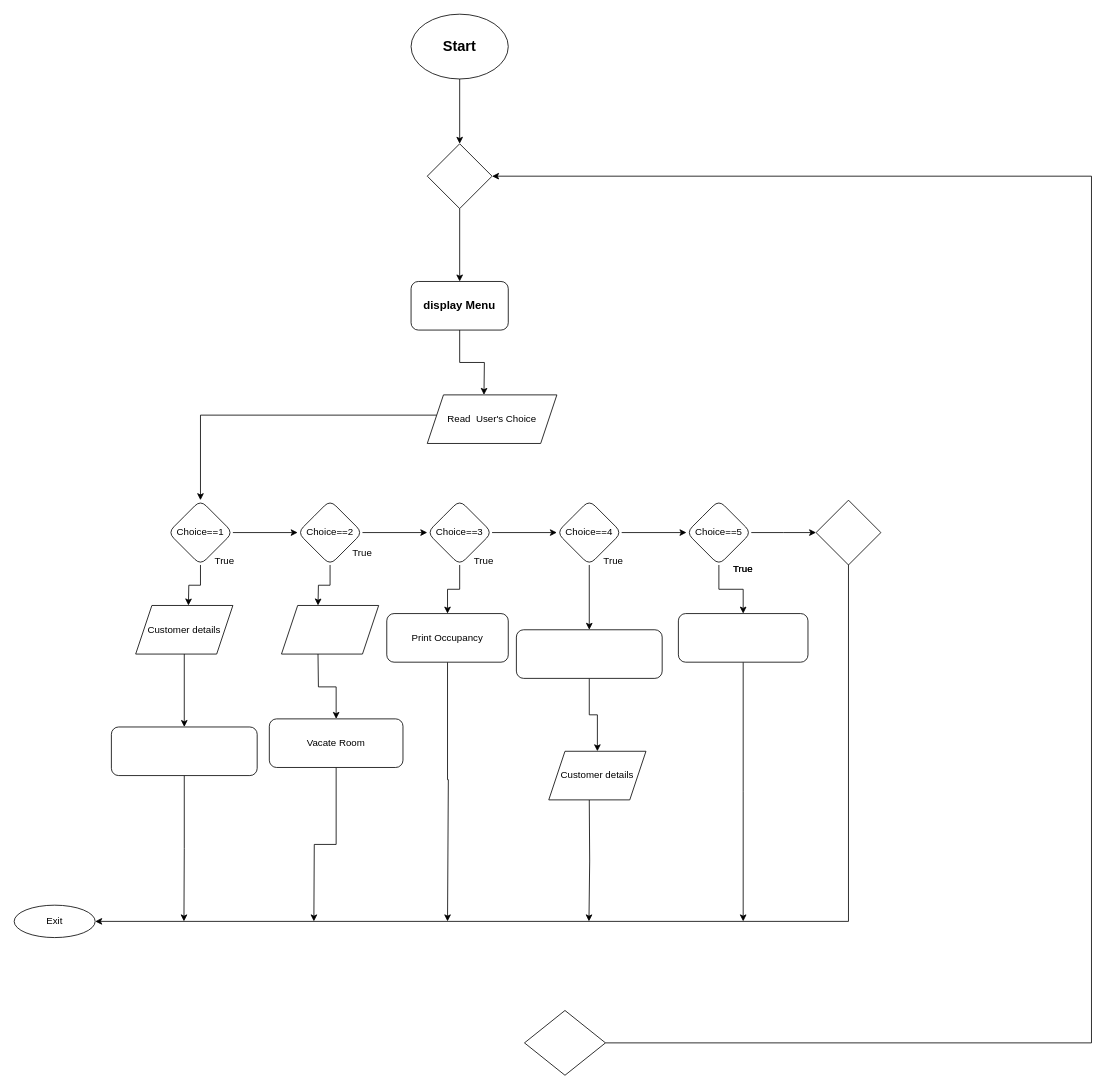
This 1112x1089 diagram has some shape labels left out. The centre of each missing label's shape, as x and y in pixels:
Book Room: the point at 184,751
Choice!=6: the point at 564,1042
choice==6: the point at 848,532
Customer name to search: the point at 589,653
print Room Prices: the point at 743,637
room number to vacate: the point at 330,629
